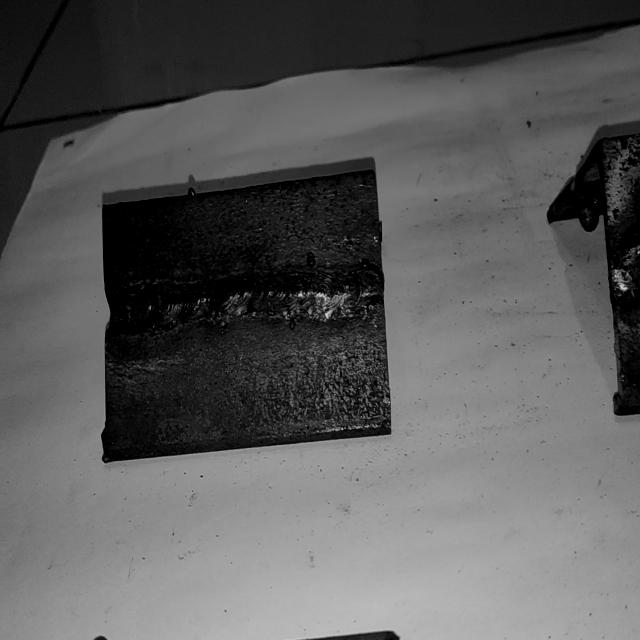Defect: (606, 232, 640, 313)
Good Weld: (109, 267, 383, 330)
